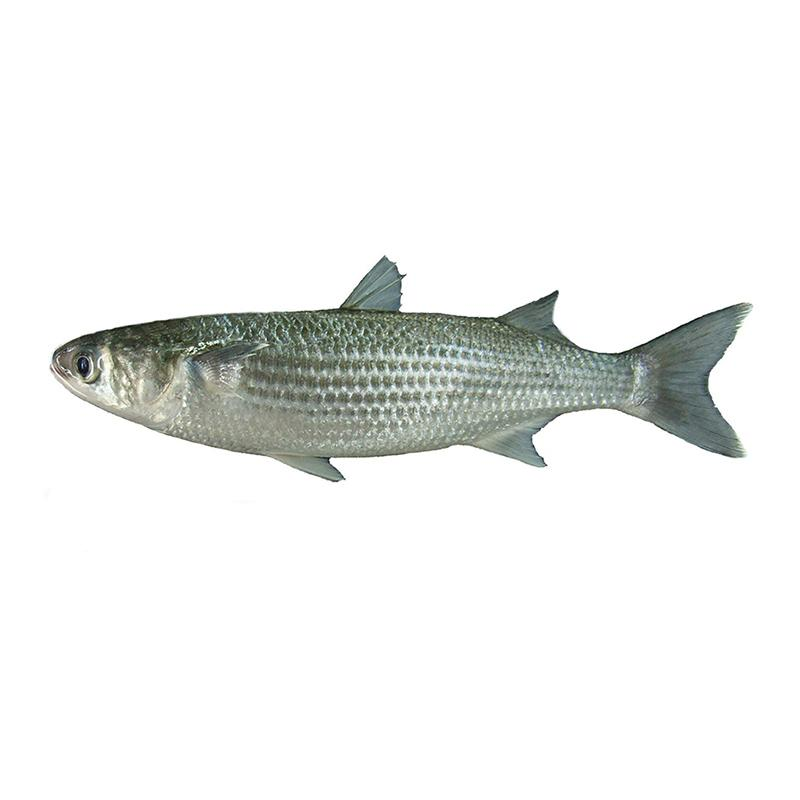Mullet: (47, 250, 754, 480)
